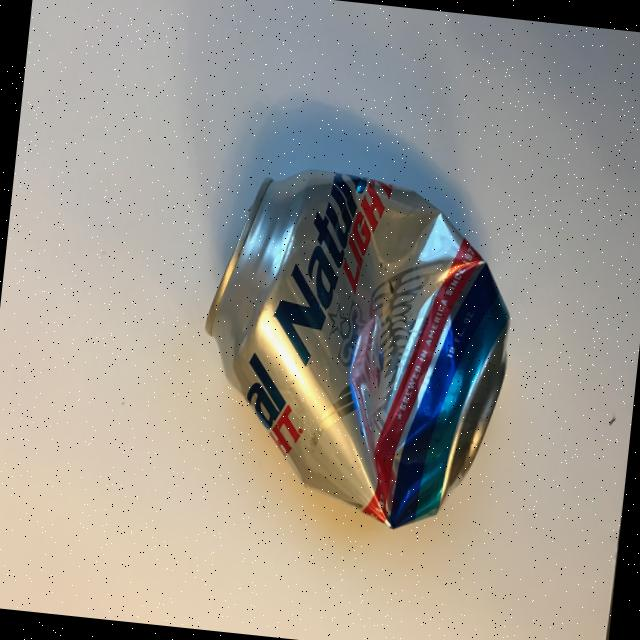metal: (185, 157, 526, 539)
